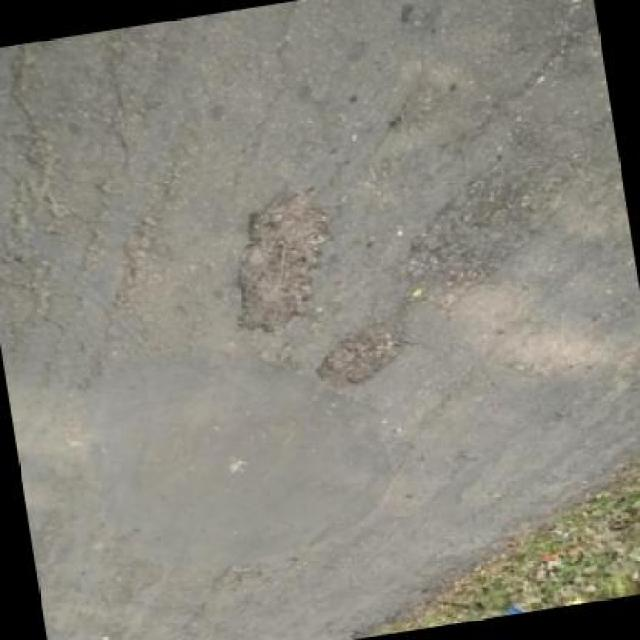pothole1: (390, 162, 579, 313), (218, 180, 348, 342), (307, 312, 416, 392)
